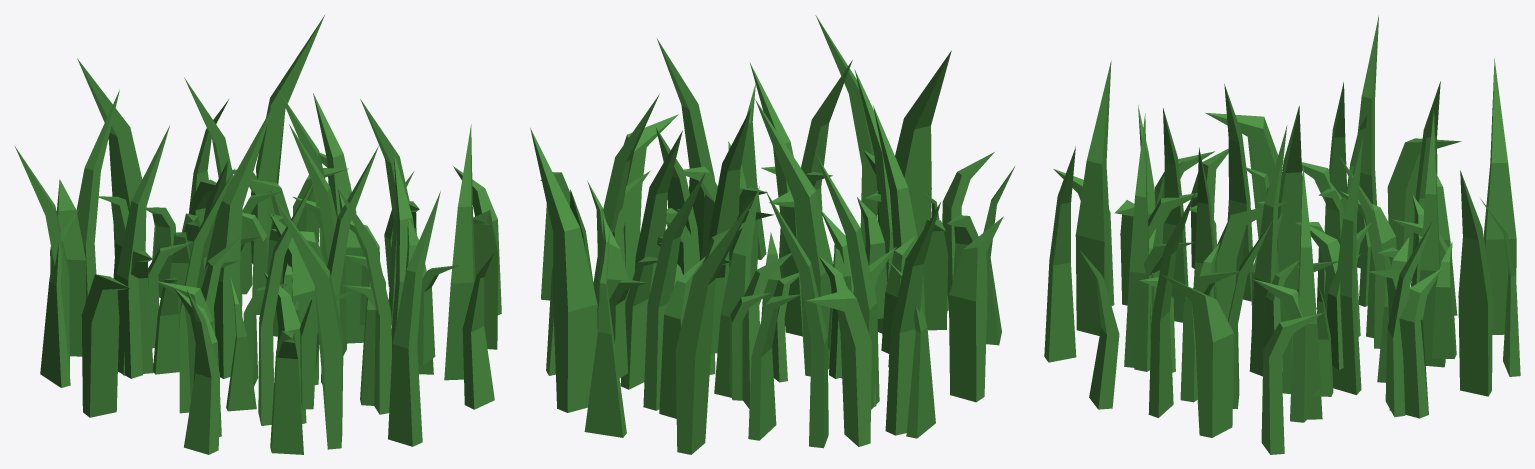
File: grass_tall.fbx
The picture shows the model from 3 angles, left to right: view 1: azimuth 30°, elevation 25°; view 2: azimuth 150°, elevation 25°; view 3: azimuth 270°, elevation 25°; orthographic projection. The views are drawn at different scales.
Parts seen in each view (by area): view 1: grass2 v: 286 f: 195.001, grass2 v: 286 f: 195, grass2 v: 286 f: 195.002; view 2: grass2 v: 286 f: 195.001, grass2 v: 286 f: 195, grass2 v: 286 f: 195.002; view 3: grass2 v: 286 f: 195.001, grass2 v: 286 f: 195, grass2 v: 286 f: 195.002.
Part boxes in pixels (x1,y1,x2,y2): grass2 v: 286 f: 195.001: (14,15,475,454); grass2 v: 286 f: 195: (40,153,501,454); grass2 v: 286 f: 195.002: (146,168,459,411); grass2 v: 286 f: 195.001: (530,15,1014,454); grass2 v: 286 f: 195: (540,84,1003,446); grass2 v: 286 f: 195.002: (587,141,948,400); grass2 v: 286 f: 195.001: (1044,15,1520,419); grass2 v: 286 f: 195: (1053,113,1461,454); grass2 v: 286 f: 195.002: (1115,148,1456,396).
Size of the model in its own units: 164 by 90.24 by 158.
